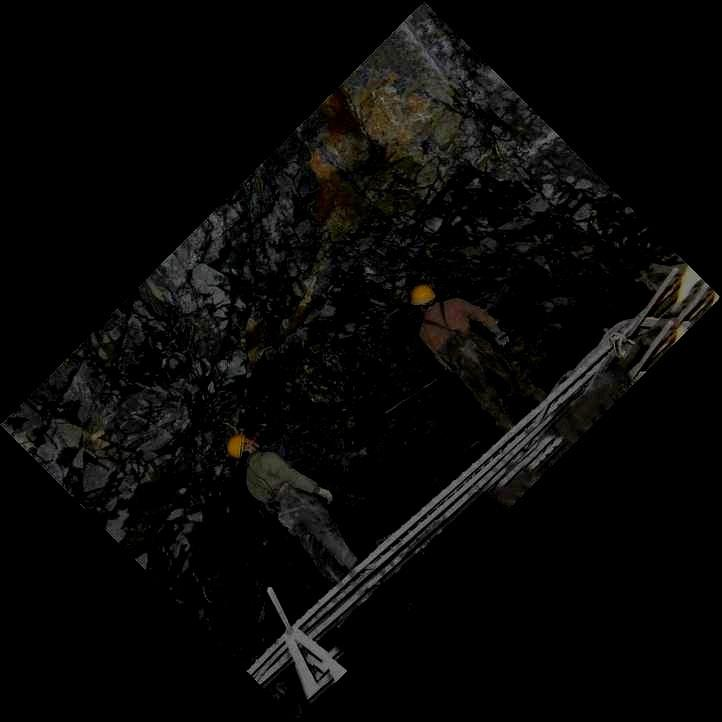helmet: (227, 433, 259, 458), (409, 284, 436, 311)
